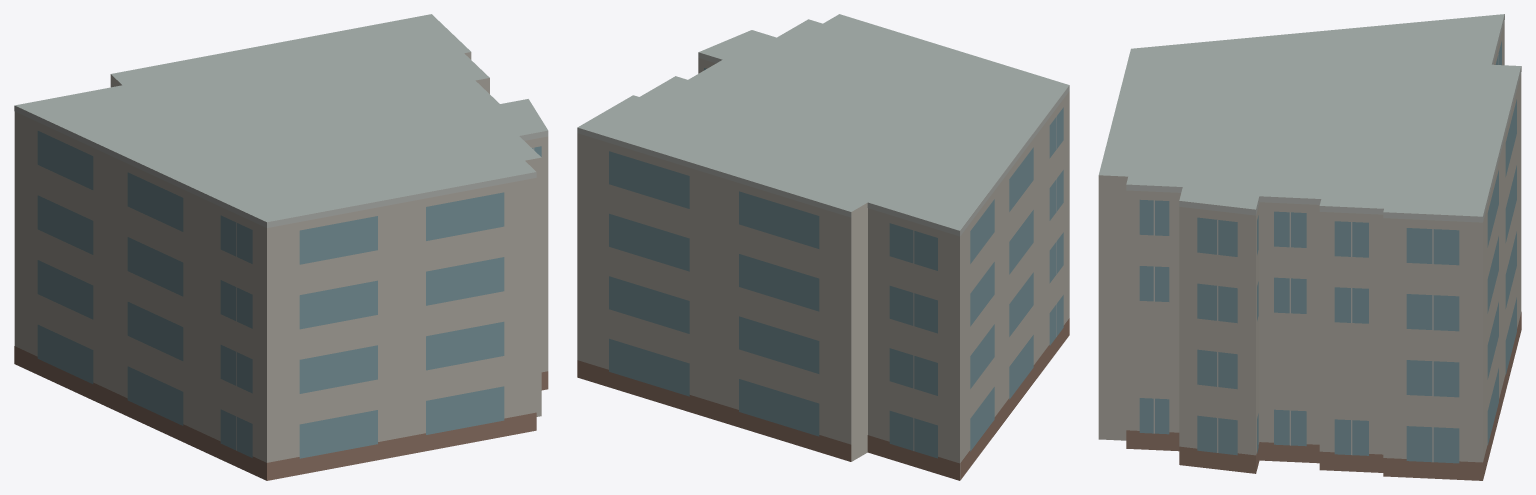
The model's file is survey-upis-32620208.glb.
The picture shows the model from 3 angles, left to right: view 1: azimuth 30°, elevation 25°; view 2: azimuth 150°, elevation 25°; view 3: azimuth 270°, elevation 25°; orthographic projection. The views are drawn at different scales.
Visible parts, largest first — view 1: survey-upis-32620208.tmp; view 2: survey-upis-32620208.tmp; view 3: survey-upis-32620208.tmp.
Boxes of the visible parts, box(x1,y1,x2,y2) form: survey-upis-32620208.tmp: box(14, 14, 548, 480); survey-upis-32620208.tmp: box(577, 14, 1069, 480); survey-upis-32620208.tmp: box(1098, 14, 1521, 480).
Bounding box in the file's own units: 17.78 × 10.8 × 15.67.
